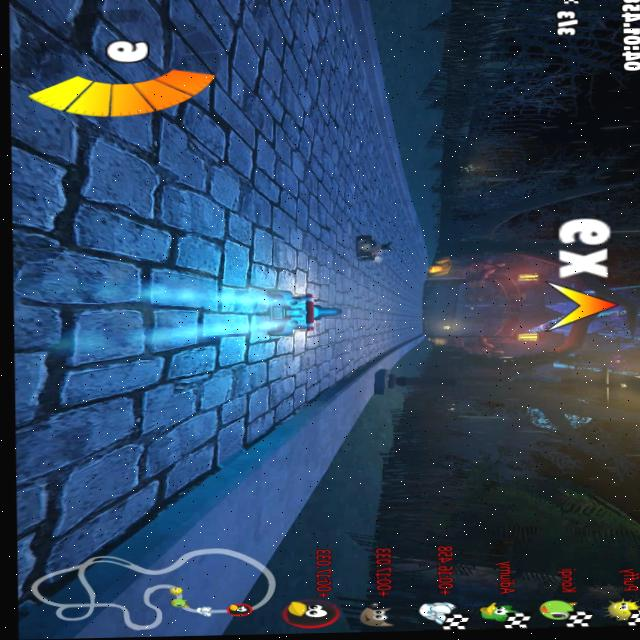enemy_kart: (349, 231, 390, 265)
player_kart: (250, 284, 346, 340)
track: (0, 0, 221, 485), (219, 0, 341, 286), (340, 88, 409, 178), (328, 0, 397, 85), (232, 339, 330, 396), (346, 266, 397, 349), (339, 176, 420, 228), (394, 250, 433, 328), (393, 225, 428, 250)
